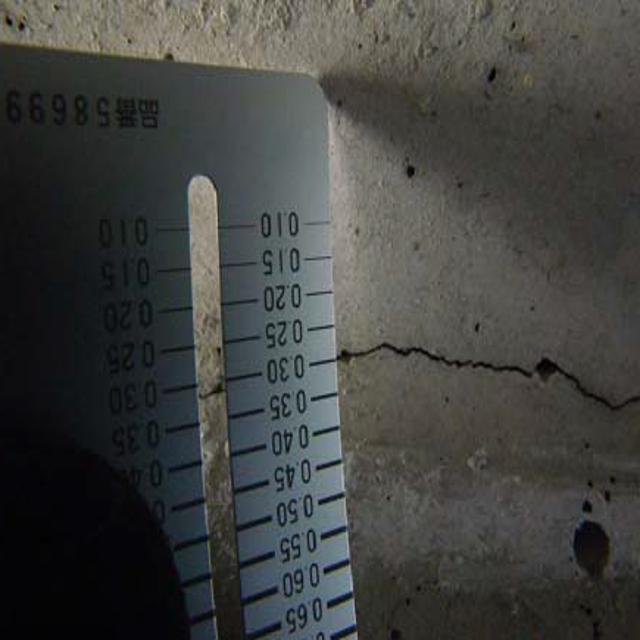crack: (340, 317, 636, 430)
